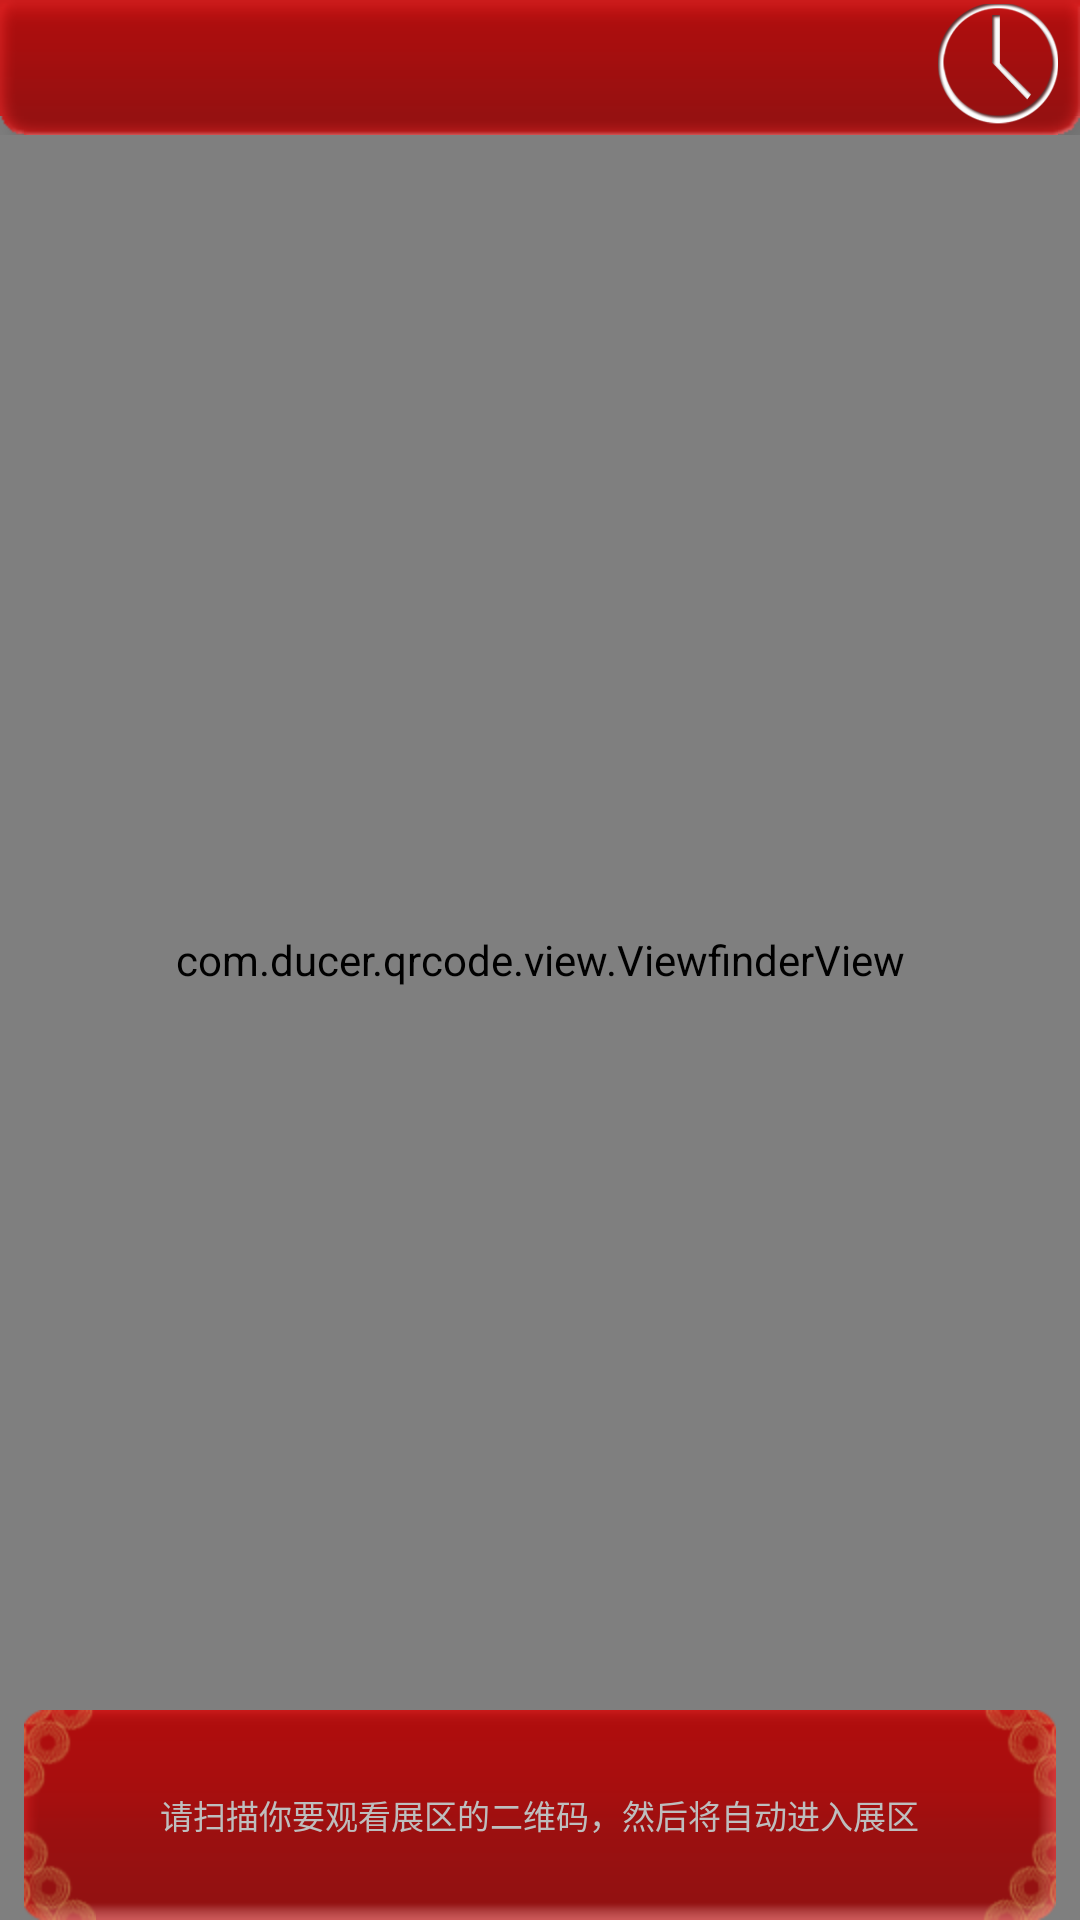

Screen size 1080×1920. Icon name, then its center in pixels as (x=x, y=y):
history: (x=998, y=64)
